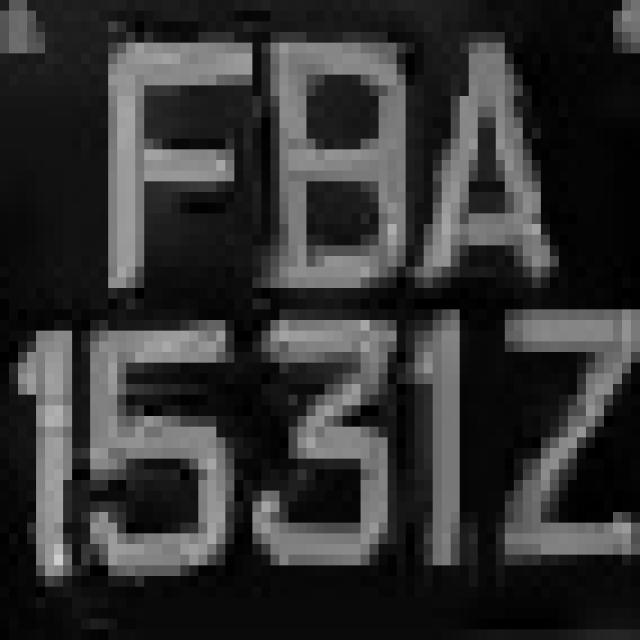1: (9, 299, 90, 629), (397, 309, 478, 587)
3: (225, 277, 397, 576)
5: (81, 299, 244, 565)
A: (415, 0, 550, 309)
B: (243, 22, 415, 310)
F: (81, 10, 253, 298)
Z: (487, 256, 640, 587)
